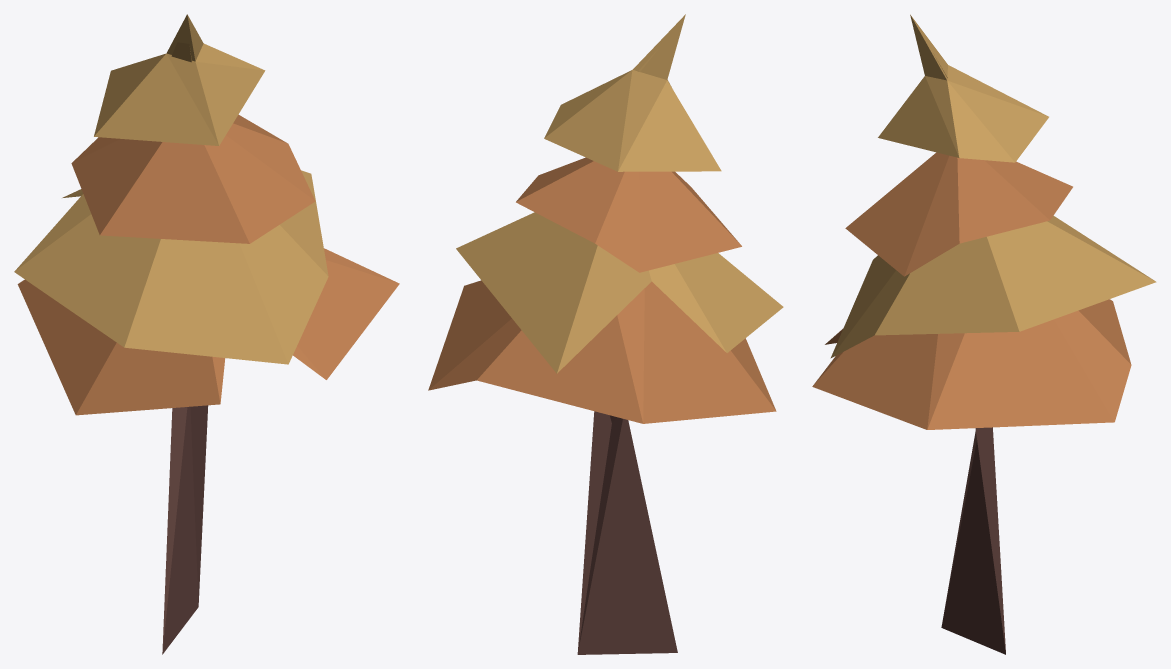
The model's file is PineTree_Autumn_5.lod3.glb.
3 renders of one model, left to right at view 1: azimuth 30°, elevation 25°; view 2: azimuth 150°, elevation 25°; view 3: azimuth 270°, elevation 25°, orthographic. The views are drawn at different scales.
Parts seen in each view (by area): view 1: PineTree_Autumn_5; view 2: PineTree_Autumn_5; view 3: PineTree_Autumn_5.
Part boxes in pixels (x1=…): PineTree_Autumn_5: x1=14, y1=14, x2=399, y2=654; PineTree_Autumn_5: x1=428, y1=14, x2=783, y2=654; PineTree_Autumn_5: x1=812, y1=14, x2=1156, y2=654.
Size of the model in its own units: 1.43 by 2.7 by 1.37.
